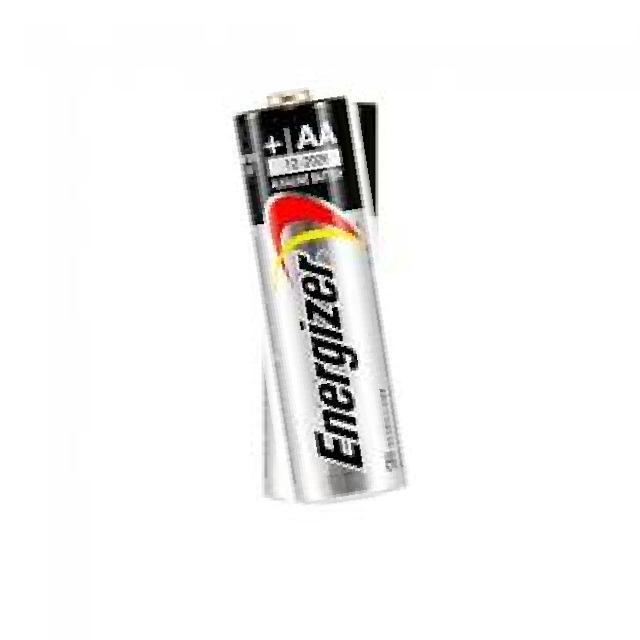Battery: (217, 85, 421, 505)
